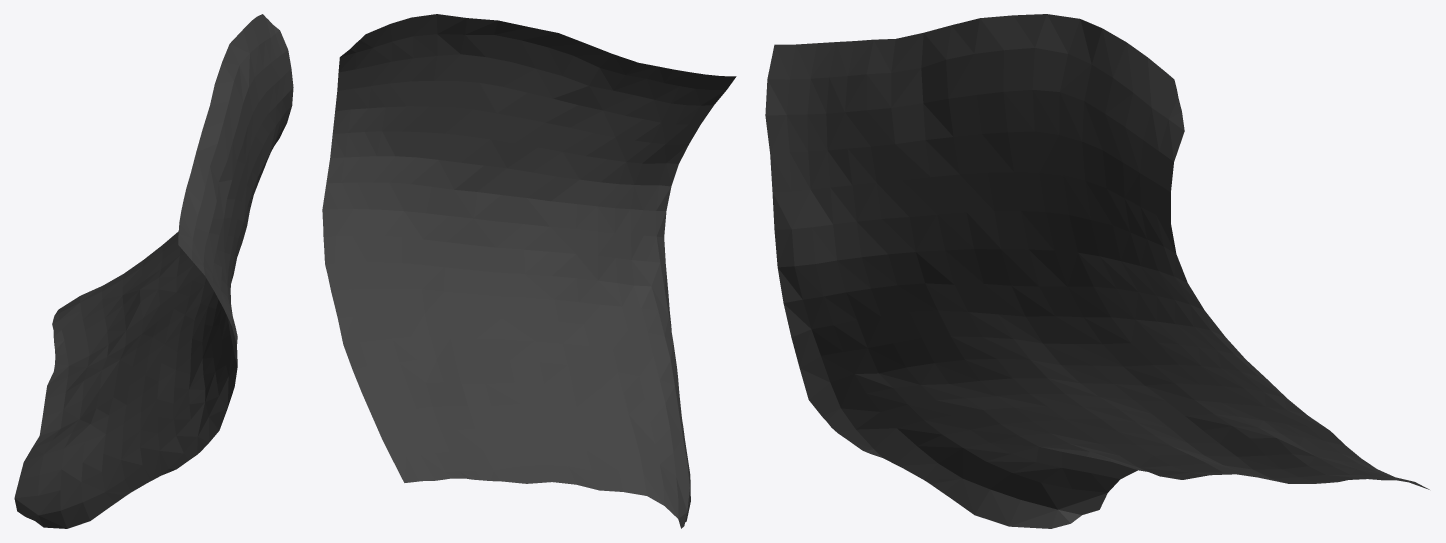
File: eq_dist_limb_Navicular_Bursa.glb
3 renders of one model, left to right at view 1: azimuth 30°, elevation 25°; view 2: azimuth 150°, elevation 25°; view 3: azimuth 270°, elevation 25°, orthographic. The views are drawn at different scales.
Visible parts, largest first — view 1: eq_dist_limb_Navicular_Bursa; view 2: eq_dist_limb_Navicular_Bursa; view 3: eq_dist_limb_Navicular_Bursa.
Boxes of the visible parts, left/top/right/bottom form: eq_dist_limb_Navicular_Bursa: left=14, top=14, right=293, bottom=528; eq_dist_limb_Navicular_Bursa: left=322, top=14, right=736, bottom=528; eq_dist_limb_Navicular_Bursa: left=765, top=14, right=1429, bottom=528.
Size of the model in its own units: 0.00305 by 0.0042 by 0.00383.
1 material, 1 textured.
